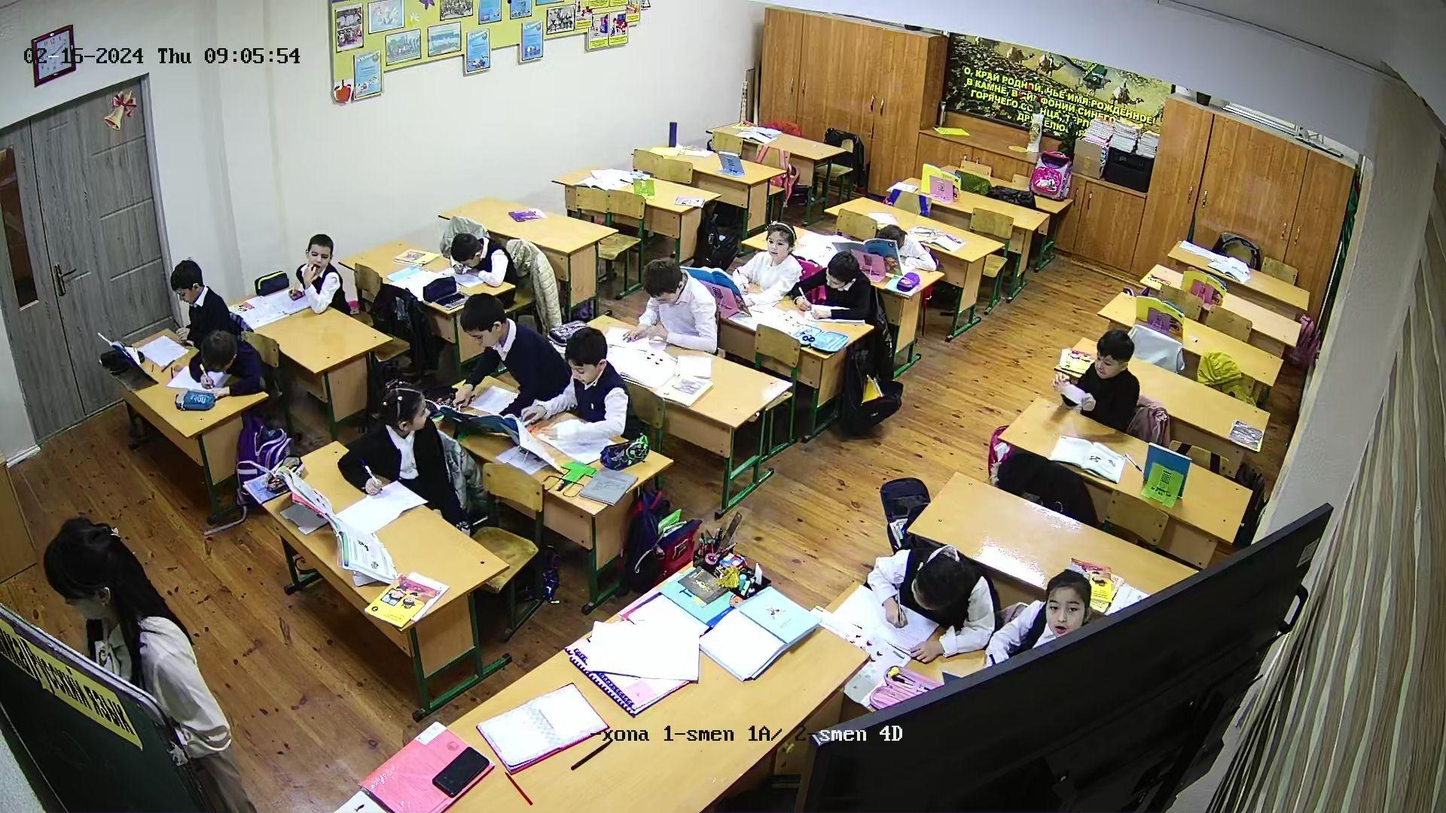Look Around: (354, 390, 455, 497), (297, 234, 347, 311)
Normal: (631, 257, 725, 358), (743, 221, 800, 306), (811, 253, 870, 326), (443, 228, 511, 287)
Stand Up: (35, 513, 259, 807)
